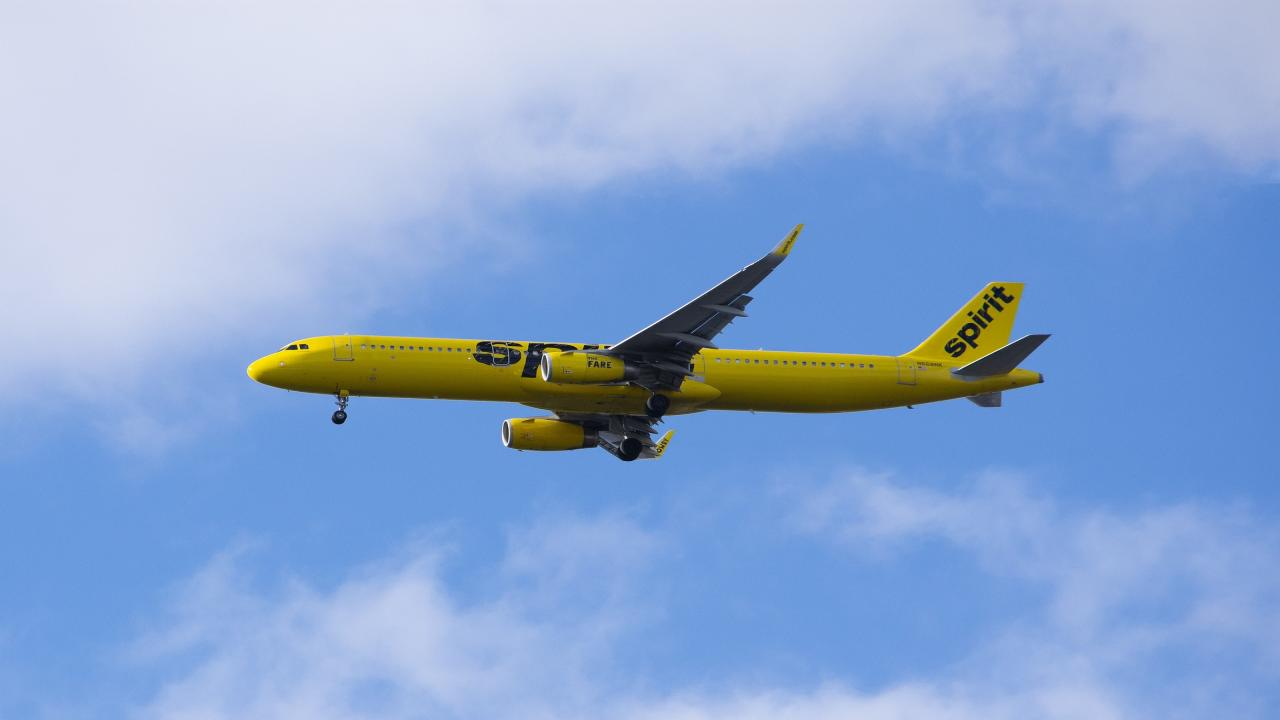Airplane: (231, 209, 1076, 477)
